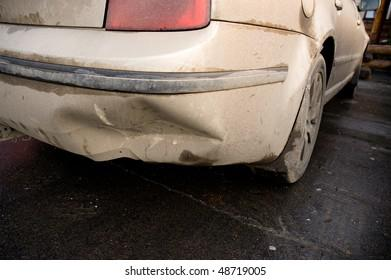rear-bumper-dent: (0, 73, 304, 179)
